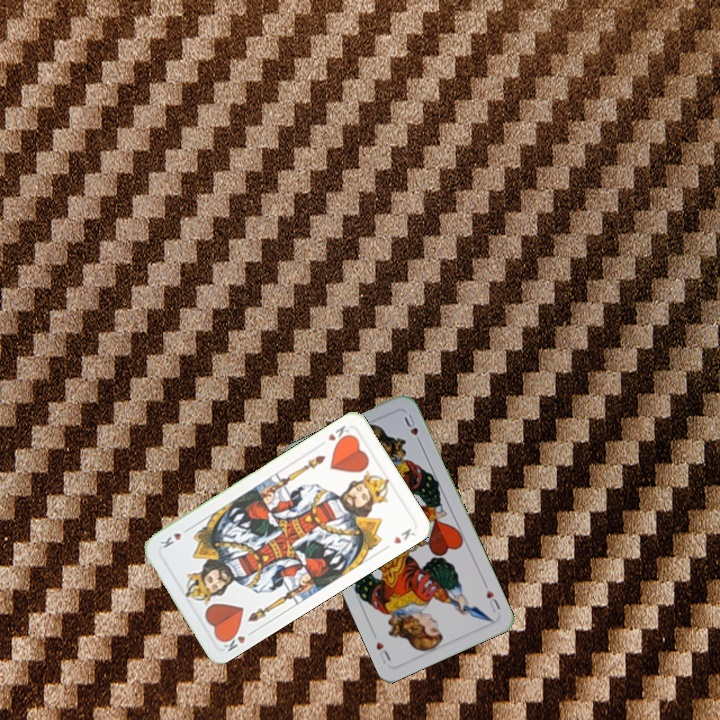HK: (218, 626, 257, 654), (324, 421, 353, 447)
HU: (480, 579, 503, 615)
